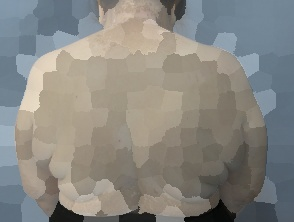vitiligo: (13, 0, 271, 222)
